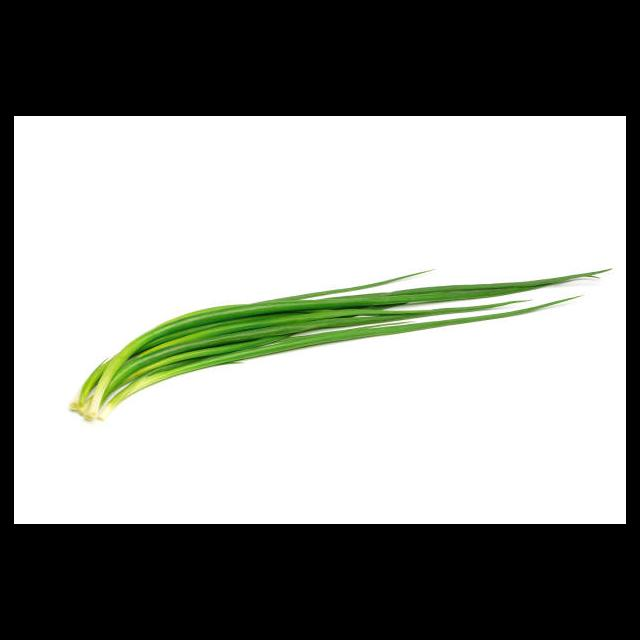green_onion: (59, 252, 616, 411)
